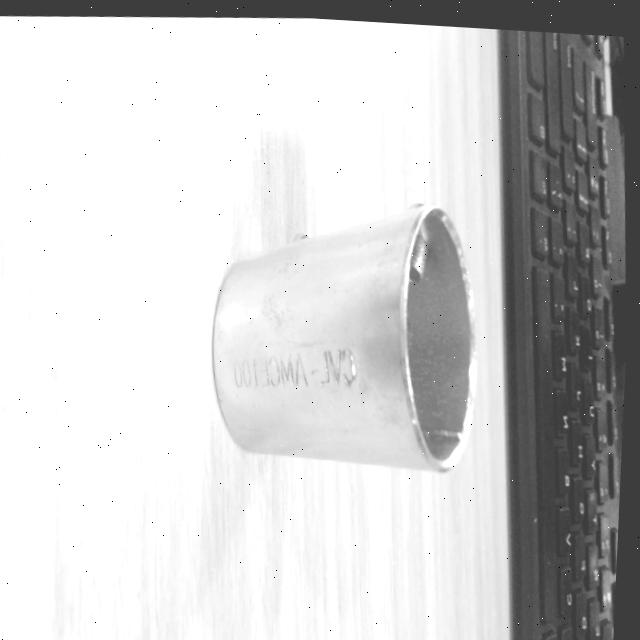Co_Nho: (209, 199, 480, 473)
